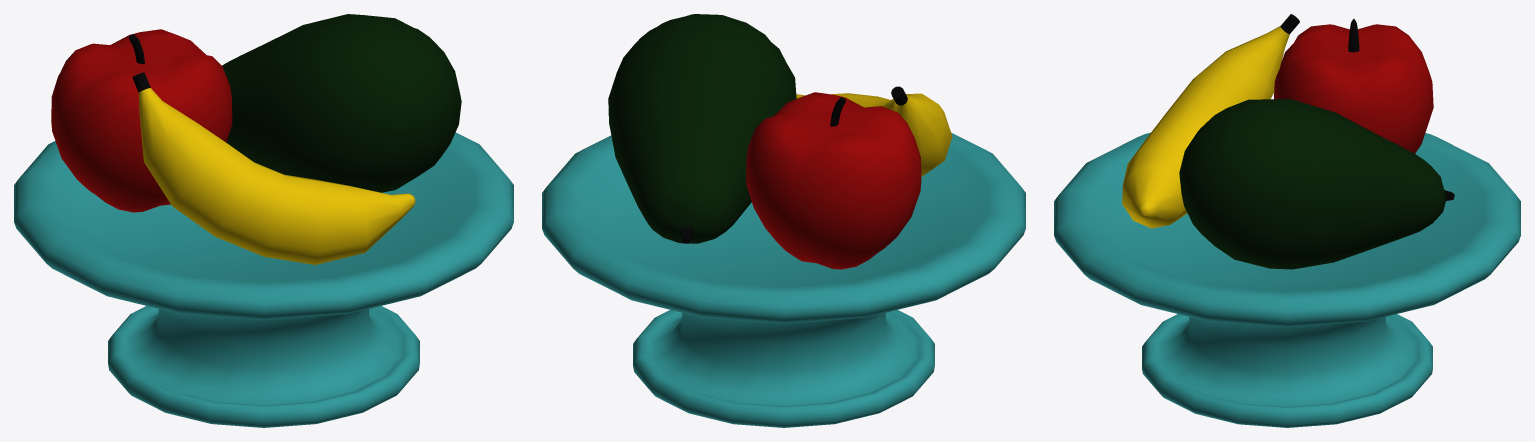
File: CuencoDeFrutasMSv2.fbx
3 renders of one model, left to right at view 1: azimuth 30°, elevation 25°; view 2: azimuth 150°, elevation 25°; view 3: azimuth 270°, elevation 25°, orthographic. The views are drawn at different scales.
Parts seen in each view (by area): view 1: Cylinder001; view 2: Cylinder001; view 3: Cylinder001.
Boxes of the visible parts, bbox=[...] form: Cylinder001: bbox=[14, 14, 513, 427]; Cylinder001: bbox=[542, 14, 1025, 427]; Cylinder001: bbox=[1054, 14, 1520, 427].
Bounding box in the file's own units: 8.45 × 5.99 × 8.32.
